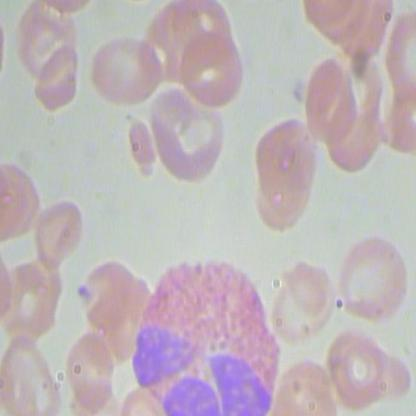RBC: (332, 231, 411, 330), (325, 327, 415, 413), (90, 31, 168, 106), (180, 31, 249, 109), (274, 257, 337, 342), (63, 327, 120, 415), (305, 54, 361, 143), (33, 40, 90, 118), (31, 192, 87, 270)
WBC: (127, 249, 282, 415)
